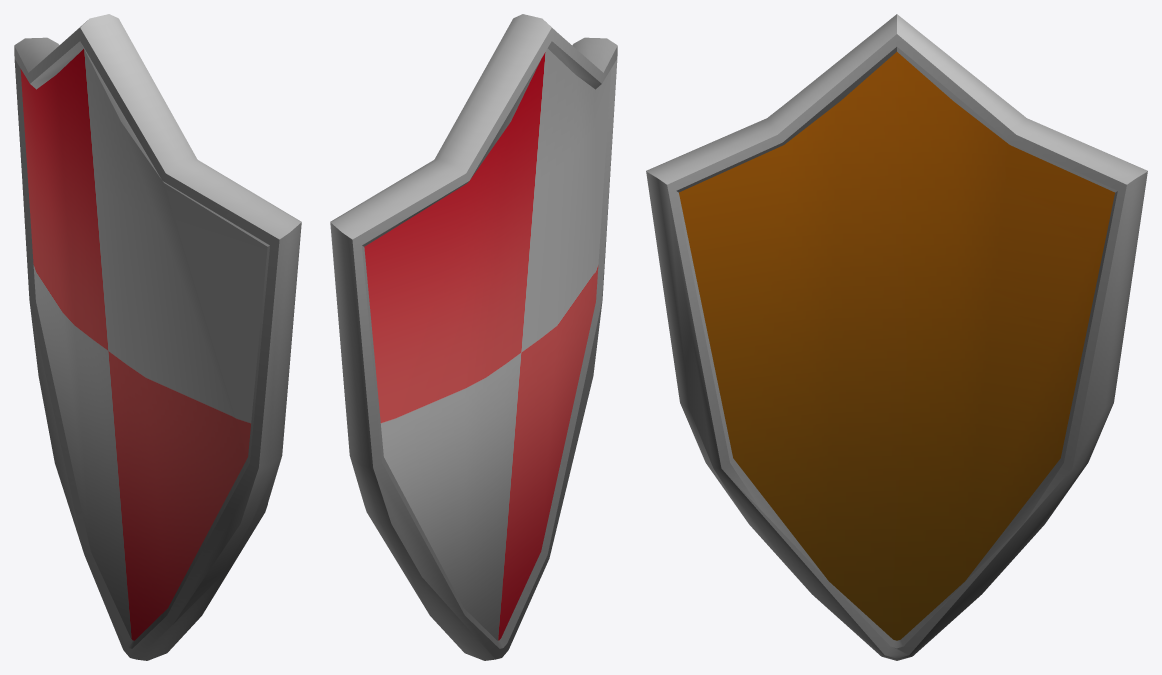
The model's file is shield.fbx.
3 renders of one model, left to right at view 1: azimuth 30°, elevation 25°; view 2: azimuth 150°, elevation 25°; view 3: azimuth 270°, elevation 25°, orthographic. The views are drawn at different scales.
Parts seen in each view (by area): view 1: Box003; view 2: Box003; view 3: Box003.
Boxes of the visible parts, <box> form: Box003: <box>14,14,301,660</box>; Box003: <box>330,14,617,660</box>; Box003: <box>646,14,1147,660</box>.
Size of the model in its own units: 10.52 by 65.54 by 48.27.
